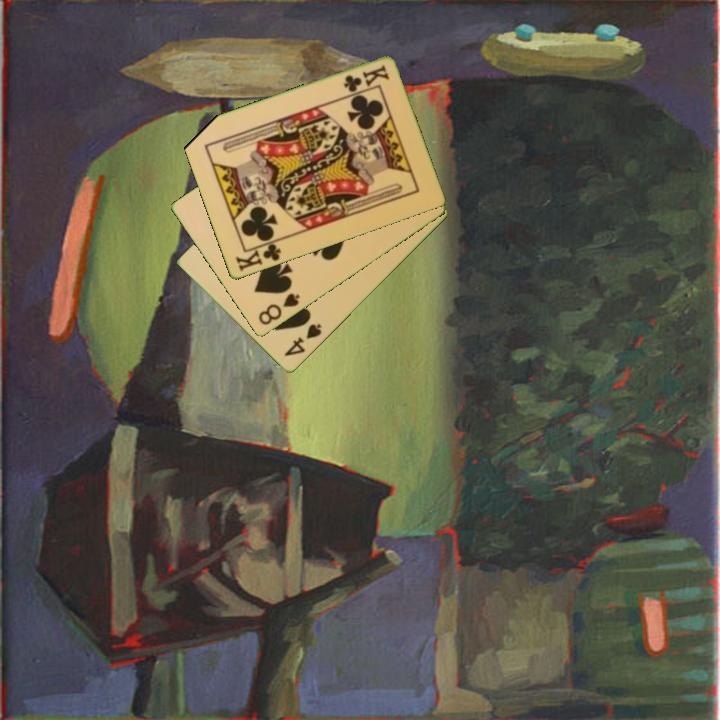4s: (281, 320, 325, 360)
8s: (255, 290, 303, 328)
Kc: (232, 237, 284, 274), (340, 62, 392, 95)
